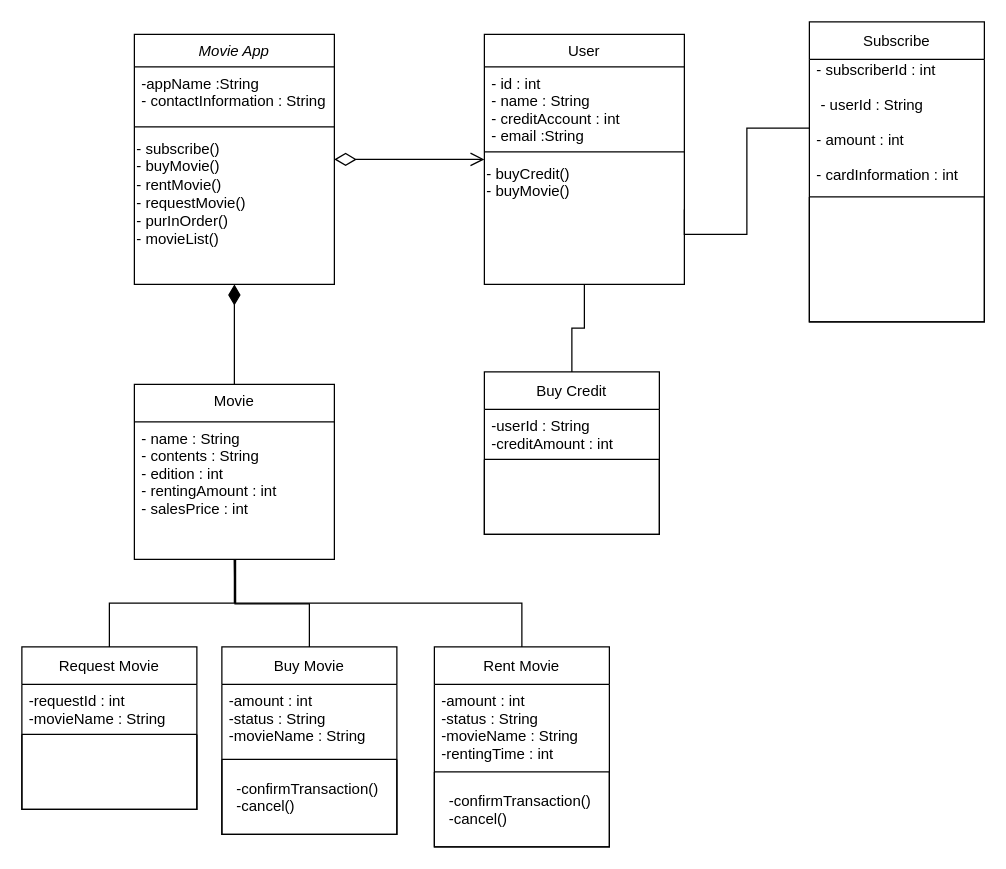
Image size: 1006x869. Some labels were removed from this diagram. Here are the shapes that lost their labels. From the top down, the centre of each, then its label:
At (896,259): "- rentingMovie() - buyMovie() - request() - comment() - confirmTransaction()".
At (571,496): "- confirmTransaction()".
At (109,771): "-addRequestList() -getNotification()".
